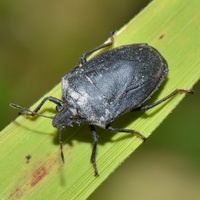insect: (2, 117, 141, 199), (114, 94, 183, 135)
